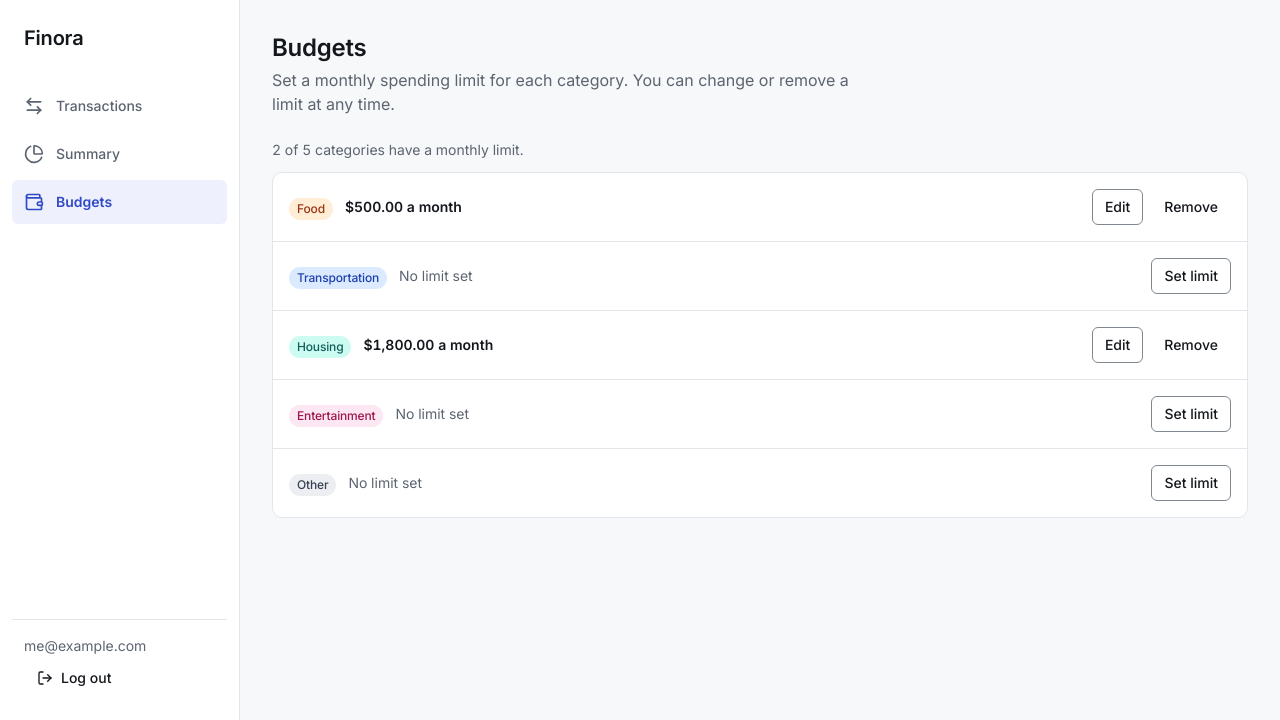
Test: setting and editing a limit (US-32) › edits a limit, starting from the saved value
Check: the heading "Food" is shown, box [289,194,333,220]
Click the button "Edit" in the row of "Food" at (1118, 207), box [1092,189,1143,225]
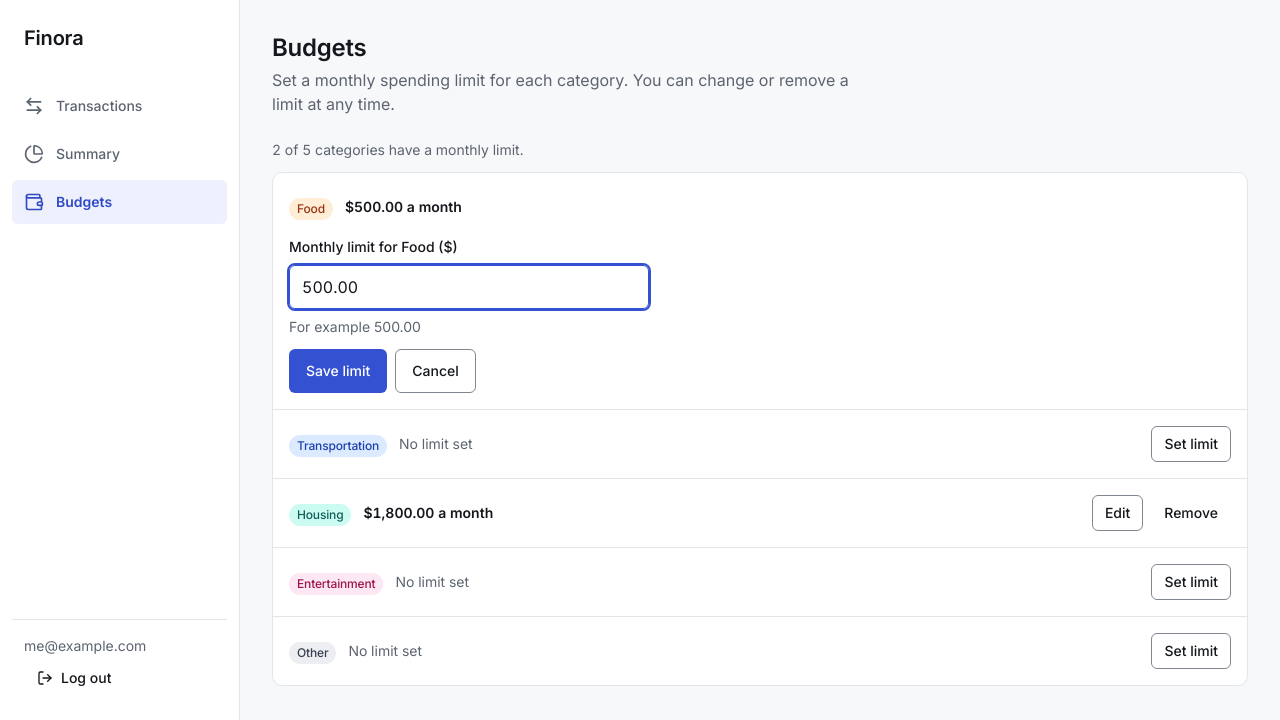
Check: the field labelled "Monthly limit for Food ($)" holds "500.00"
Replace the text in the field labelled "Monthly limit for Food ($)" with "1,250.50" at (469, 287), box [289,265,649,309]
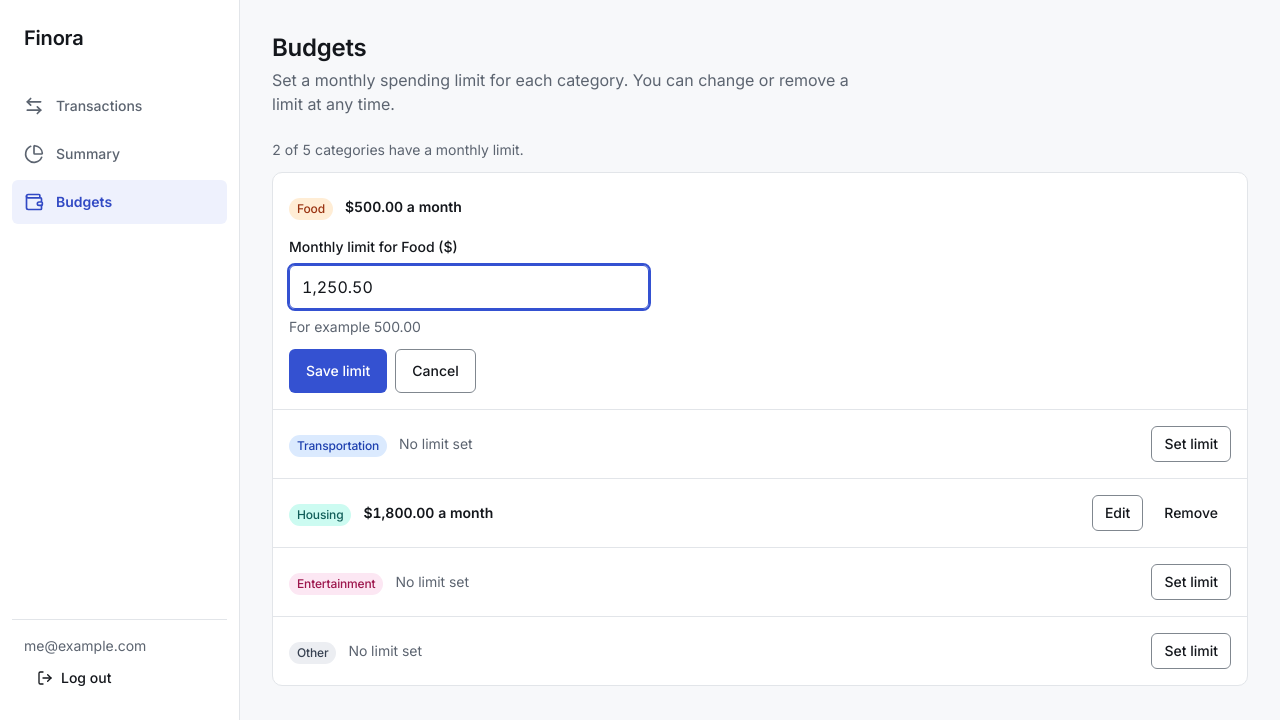
Click the button "Save limit" at (338, 371), box [289,349,387,393]
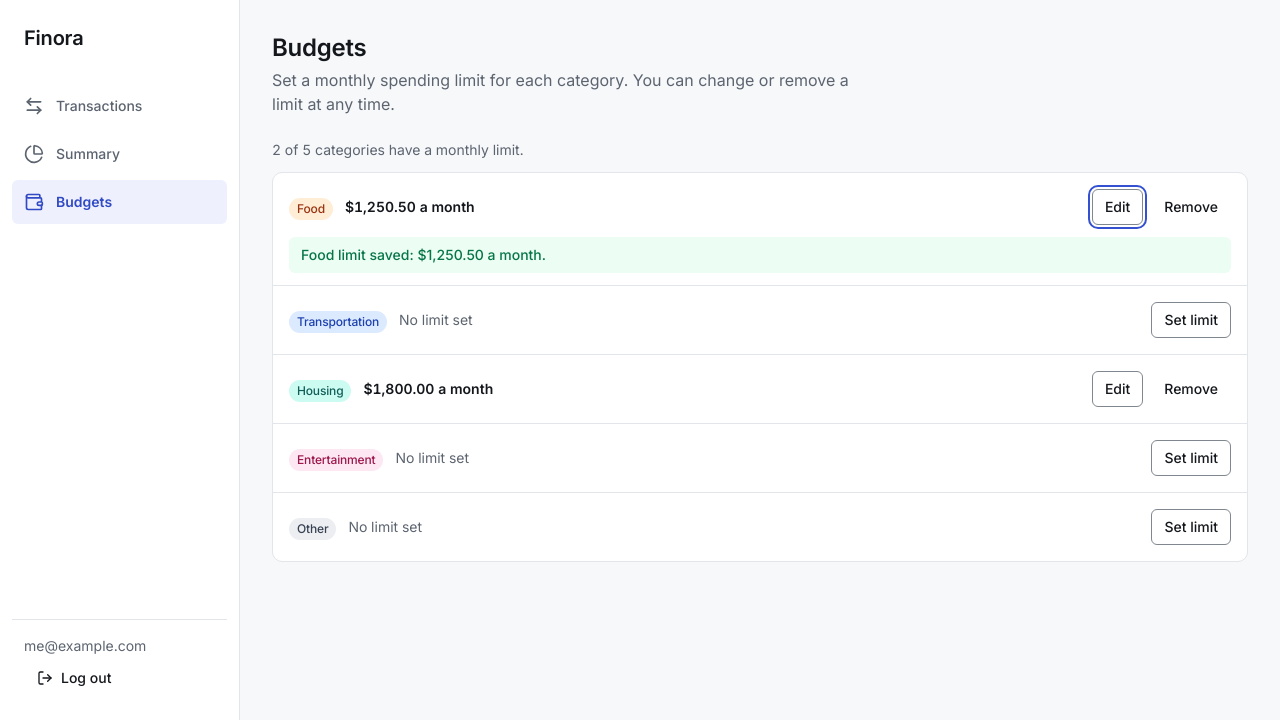
Check: the text "$1,250.50 a month" is shown, box [345,195,475,219]
